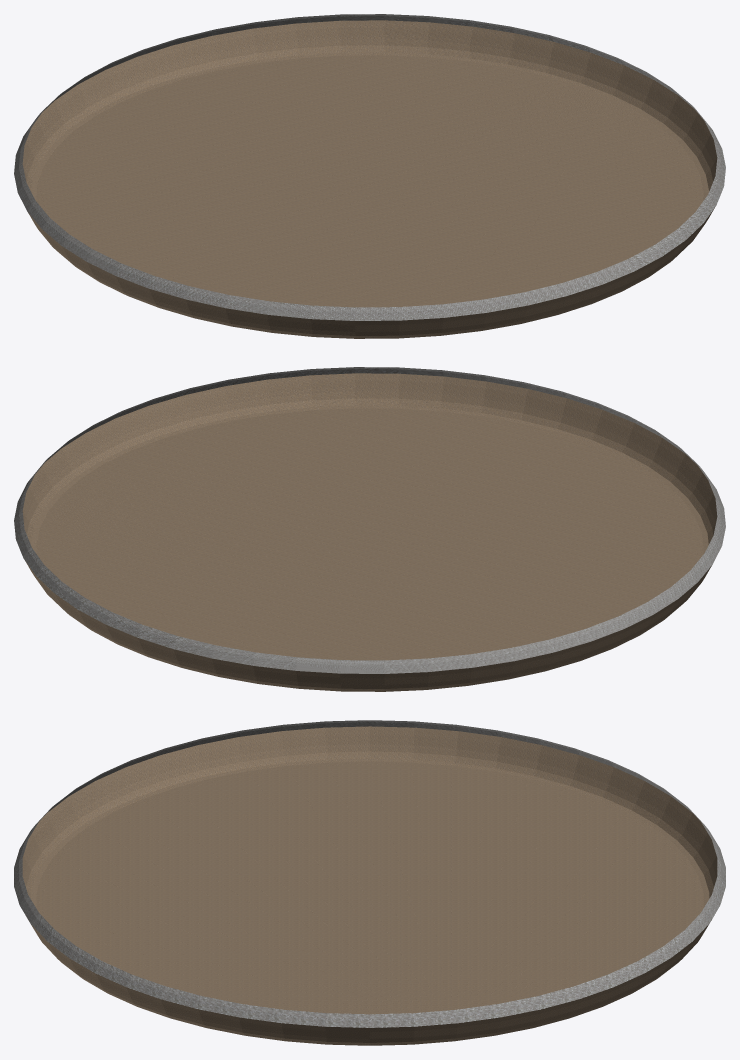
The model's file is ground.fbx.
The picture shows the model from 3 angles, top to bottom: view 1: azimuth 30°, elevation 25°; view 2: azimuth 150°, elevation 25°; view 3: azimuth 270°, elevation 25°; orthographic projection.
Parts seen in each view (by area): view 1: polySurface52, polySurface53; view 2: polySurface52, polySurface53; view 3: polySurface52, polySurface53.
Boxes of the visible parts, x1=… form: polySurface52: x1=22, y1=20, x2=717, y2=338; polySurface53: x1=14, y1=14, x2=725, y2=320; polySurface52: x1=22, y1=373, x2=717, y2=691; polySurface53: x1=14, y1=367, x2=725, y2=673; polySurface52: x1=22, y1=726, x2=717, y2=1045; polySurface53: x1=14, y1=720, x2=725, y2=1027.
Bounding box in the file's own units: 1814 × 99.78 × 1810.
